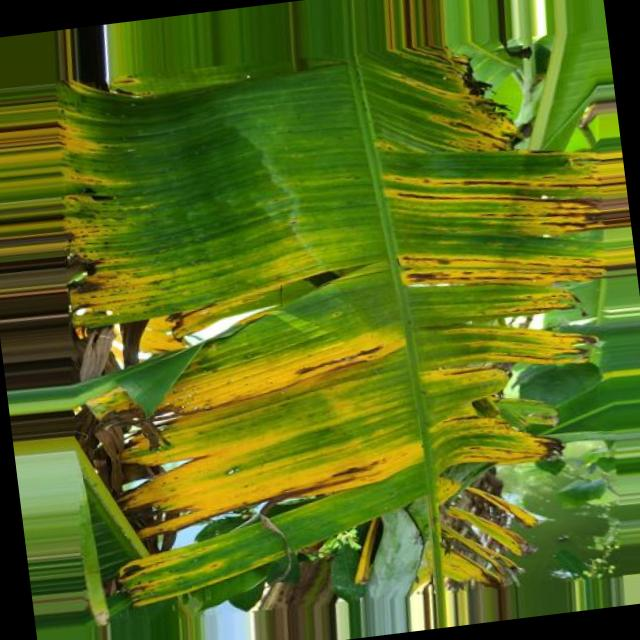Banana_Black_Sigatoka: (9, 45, 380, 613), (352, 12, 640, 616)
